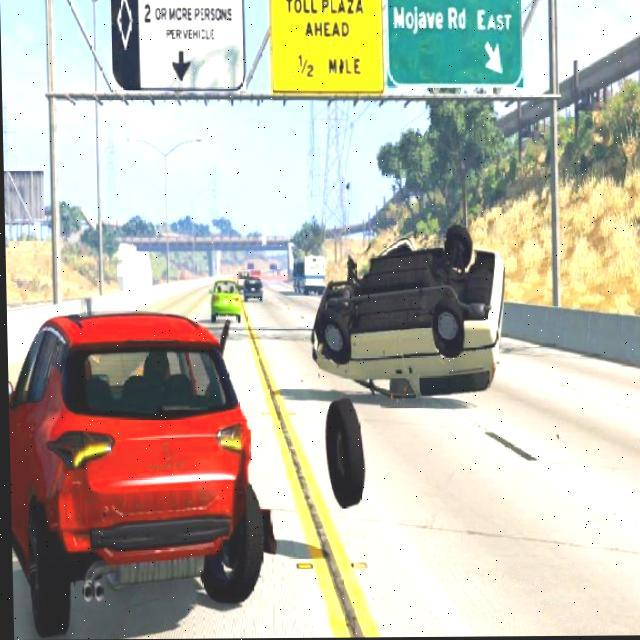multiple_accident: (0, 289, 337, 640), (287, 212, 540, 455)
